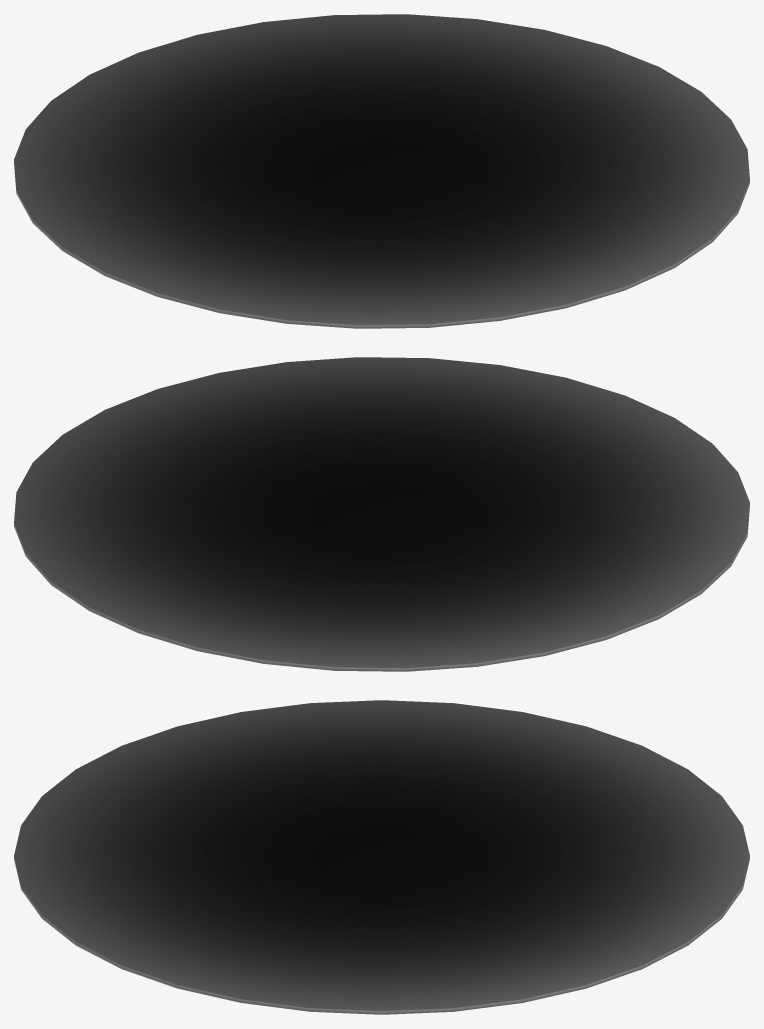
Rendered from disc.glb.
The picture shows the model from 3 angles, top to bottom: view 1: azimuth 30°, elevation 25°; view 2: azimuth 150°, elevation 25°; view 3: azimuth 270°, elevation 25°; orthographic projection.
Visible parts, largest first — view 1: Cylinder; view 2: Cylinder; view 3: Cylinder.
Boxes of the visible parts, x1,y1,x2,y2 form: Cylinder: (14, 14, 749, 328); Cylinder: (14, 357, 749, 671); Cylinder: (14, 700, 749, 1014).
Bounding box in the file's own units: 7.4 × 0.04 × 7.4.
Materials: 1 (1 with a texture image).
